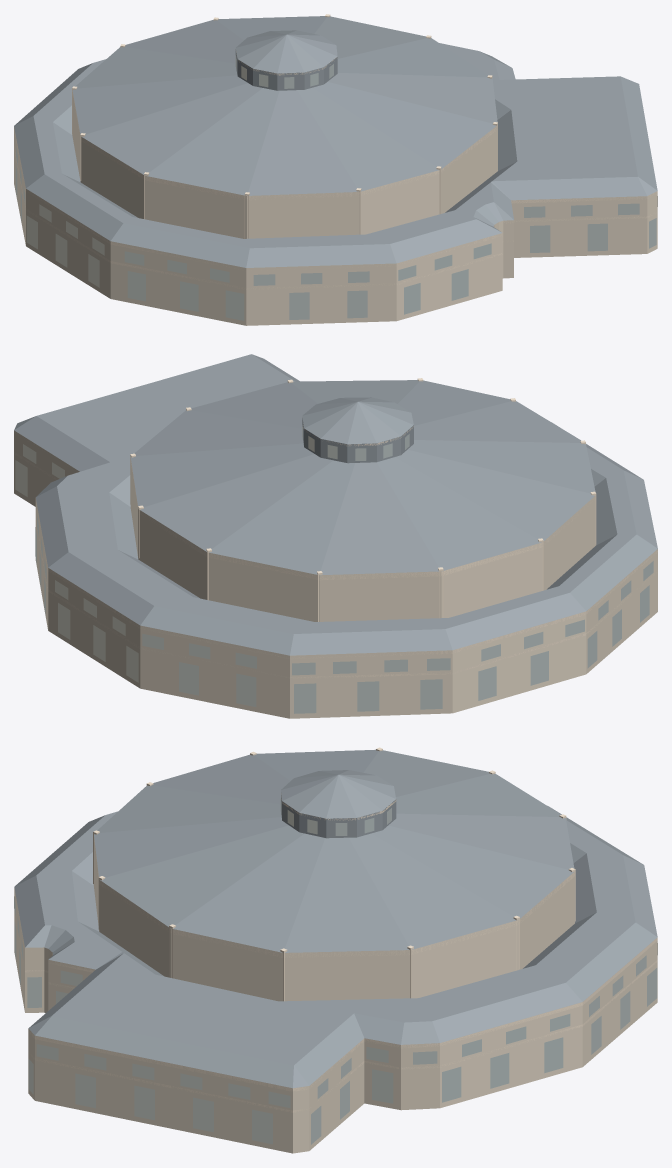
The model's file is detail.glb.
3 renders of one model, top to bottom at view 1: azimuth 30°, elevation 25°; view 2: azimuth 150°, elevation 25°; view 3: azimuth 270°, elevation 25°, orthographic. The views are drawn at different scales.
Visible parts, largest first — view 1: roof, stone, window, trim; view 2: roof, stone, window, trim; view 3: roof, stone, window, trim.
Part boxes in pixels (left/top/right/bottom): roof: left=14, top=16, right=657, bottom=267; stone: left=14, top=95, right=657, bottom=325; window: left=15, top=55, right=657, bottom=320; trim: left=14, top=14, right=657, bottom=289; roof: left=14, top=354, right=657, bottom=655; stone: left=14, top=430, right=657, bottom=718; window: left=15, top=425, right=653, bottom=713; trim: left=14, top=378, right=657, bottom=678; roof: left=14, top=749, right=657, bottom=1088; stone: left=14, top=837, right=657, bottom=1153; window: left=14, top=799, right=657, bottom=1144; trim: left=14, top=747, right=657, bottom=1112.
Size of the model in its own units: 51.36 by 15 by 44.72.
